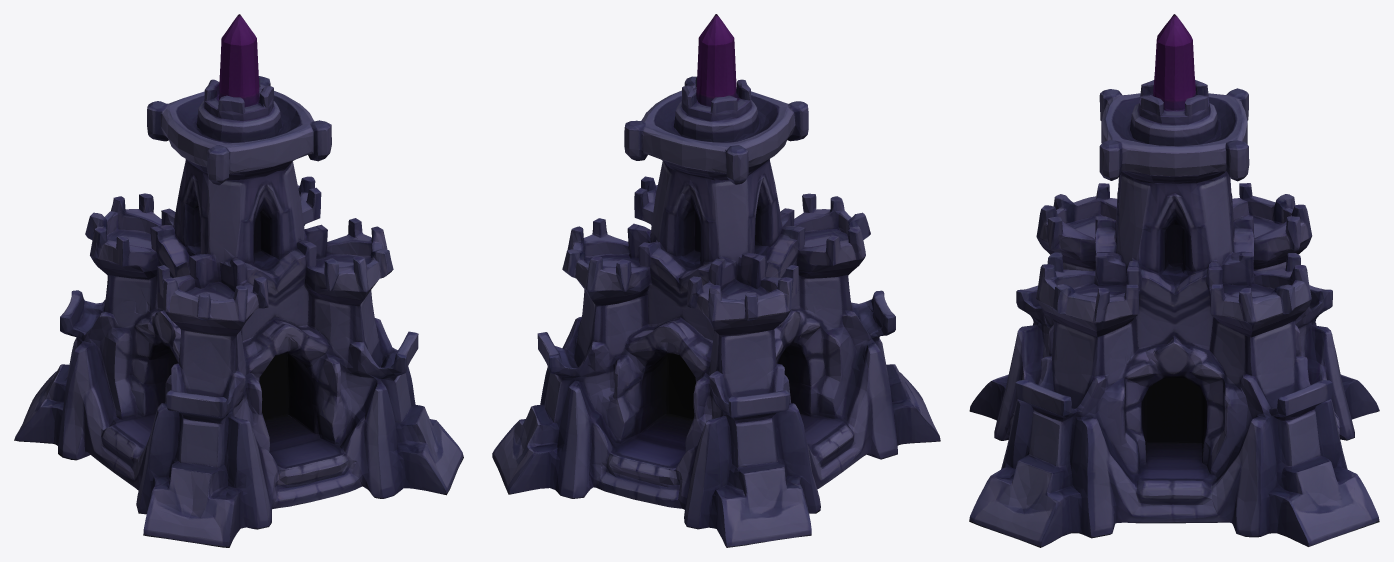
File: Enemy Tower.glb
The picture shows the model from 3 angles, left to right: view 1: azimuth 30°, elevation 25°; view 2: azimuth 150°, elevation 25°; view 3: azimuth 270°, elevation 25°; orthographic projection. The views are drawn at different scales.
Parts seen in each view (by area): view 1: world; view 2: world; view 3: world.
Boxes of the visible parts, bbox=[...] form: world: bbox=[14, 14, 463, 547]; world: bbox=[492, 14, 940, 547]; world: bbox=[969, 14, 1379, 547].
Bounding box in the file's own units: 0.7687 × 0.9988 × 0.8206.
Materials: 1 (1 with a texture image).
